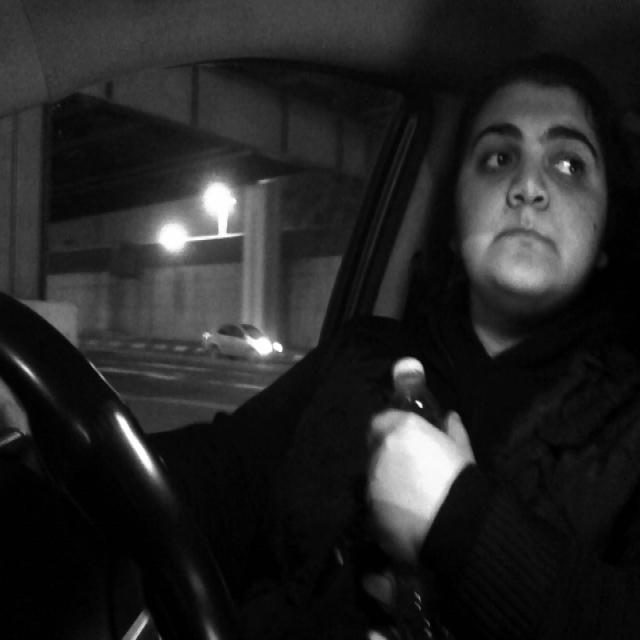drinking: (368, 347, 446, 640)
